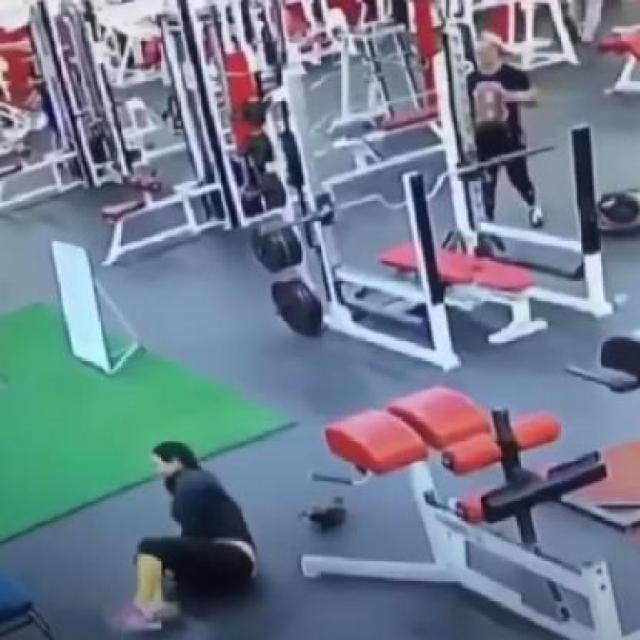fall: (128, 434, 263, 638)
